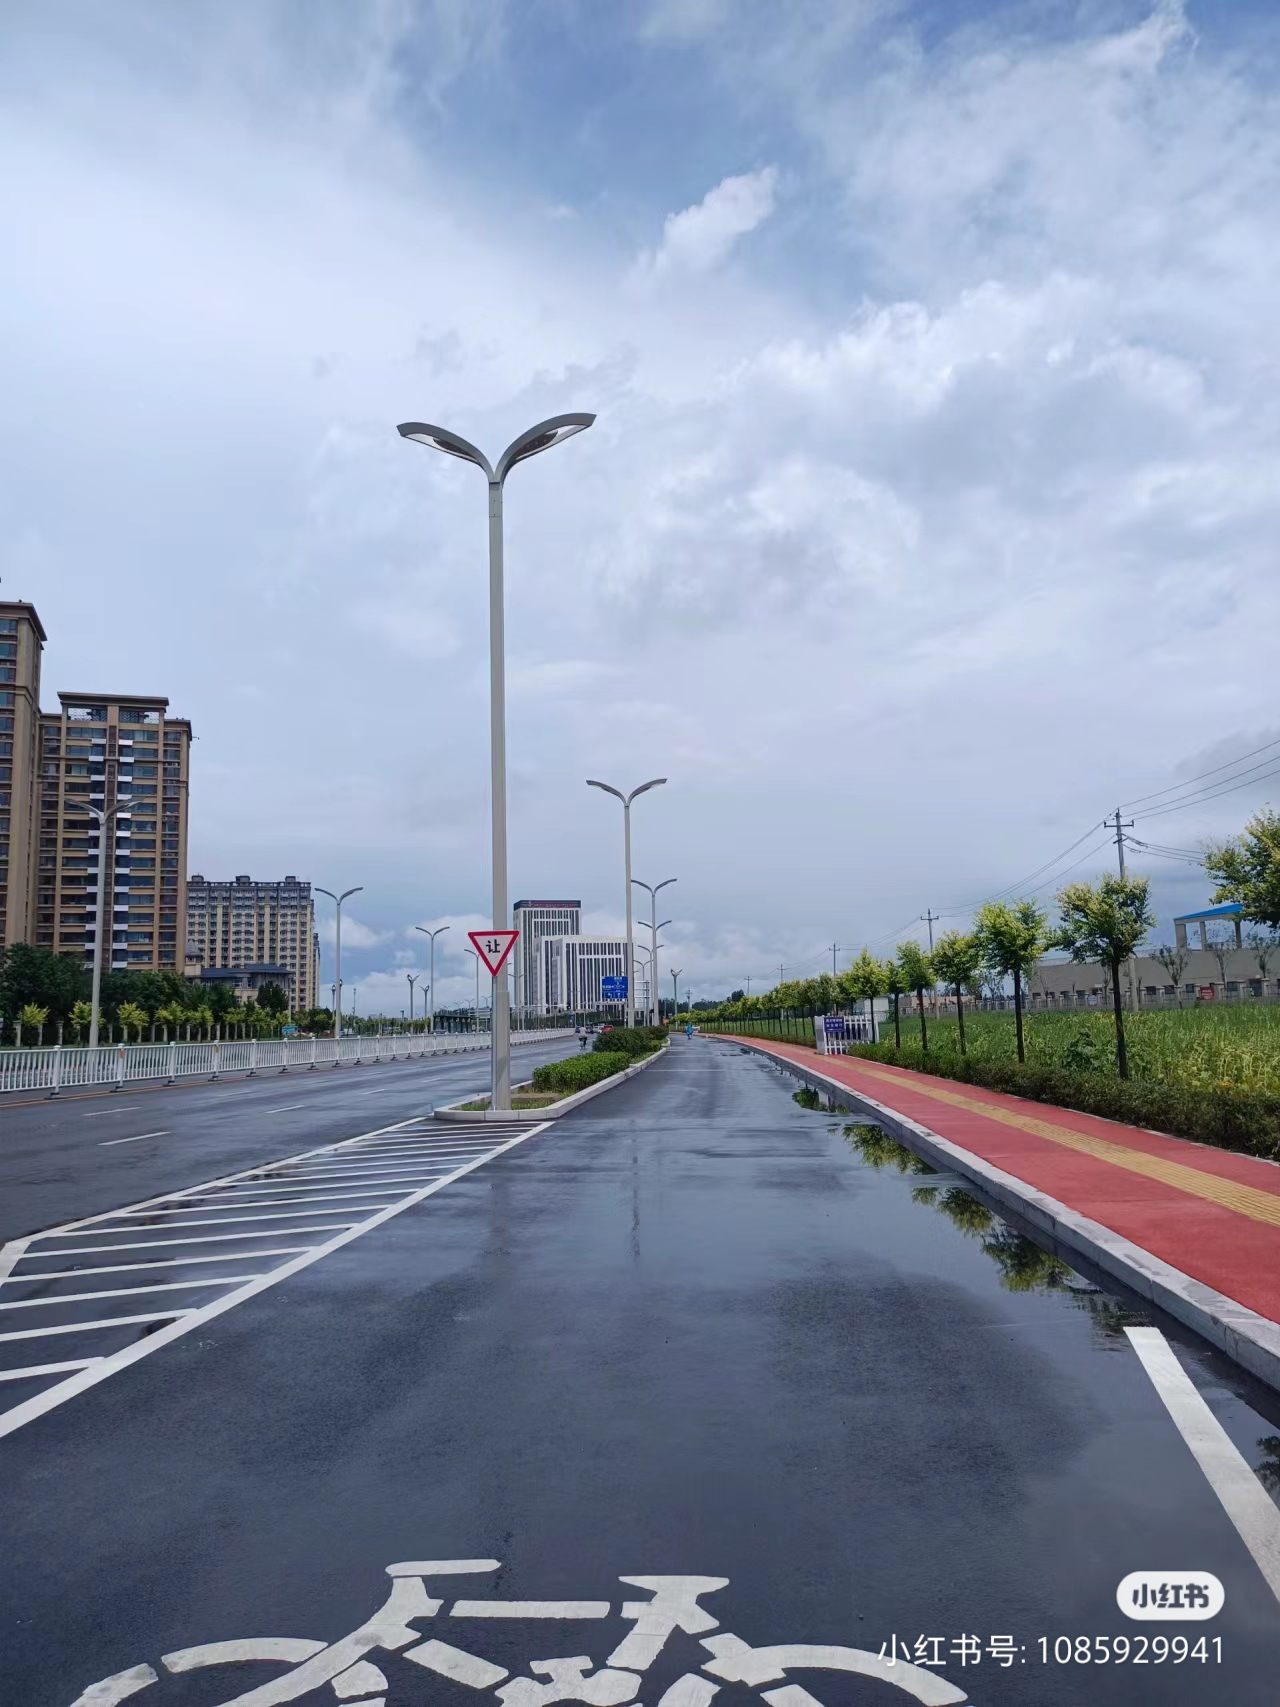pg: (464, 926, 515, 973)
